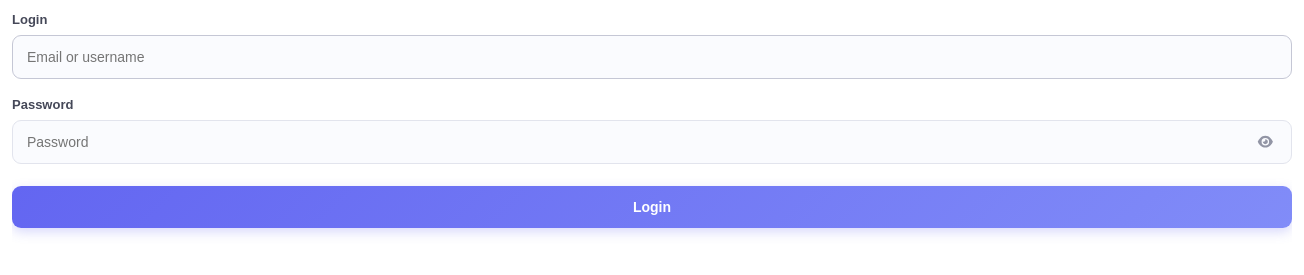
Test: LoginForm › Form submission › rejects passwords shorter than six characters
Type "alexj" into the field with test id "login-input".
click(652, 57); type("alexj")  # box [12,35,1292,79]
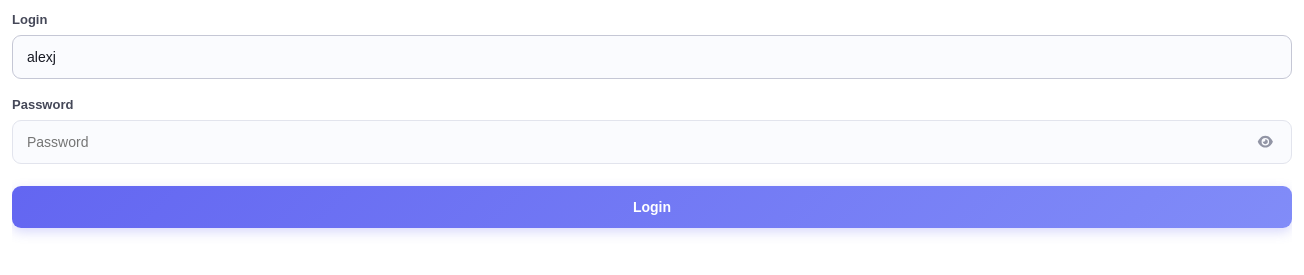
Type "12345" into the password field with test id "password-input".
click(652, 142); type("12345")  # box [12,120,1292,164]
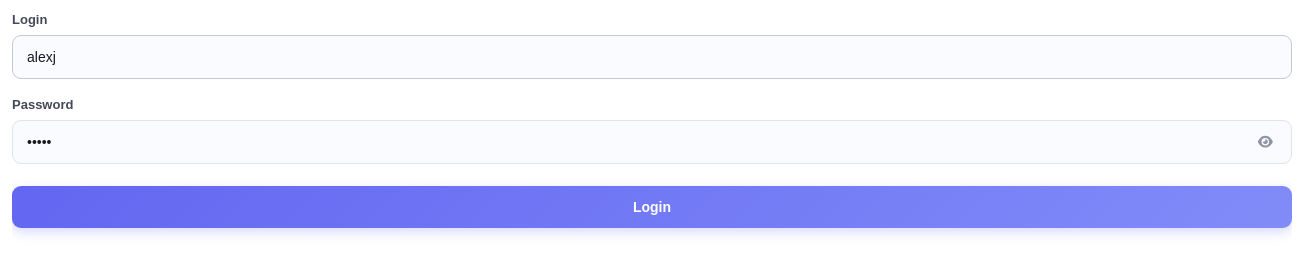
Click the button with test id "login-submit".
click(652, 207)  # box [12,186,1292,228]
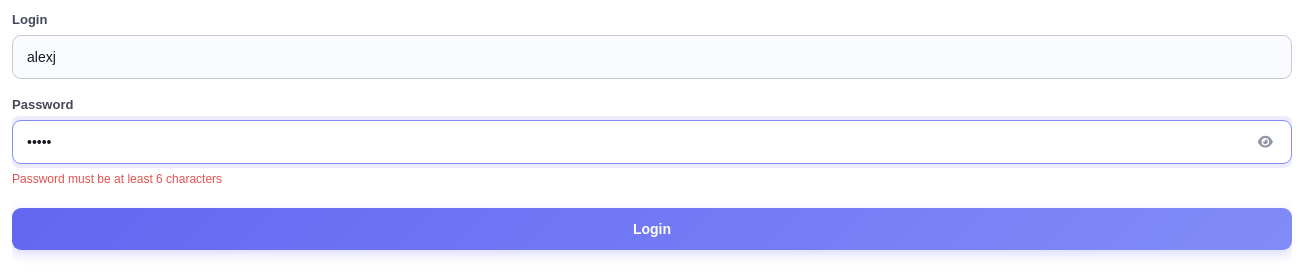
Expected: the text "Password must be at least 6 characters" is shown, [12,172,222,186]
